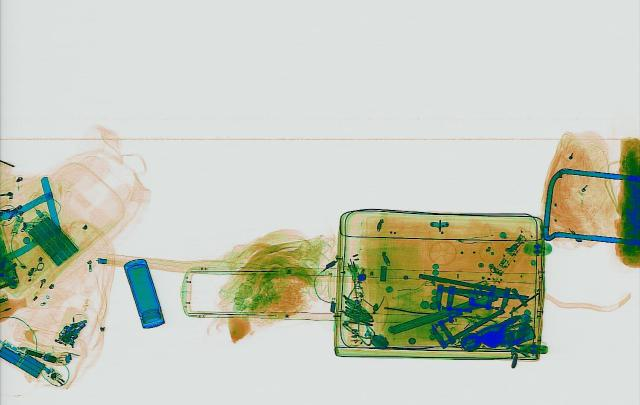Pliers: (469, 310, 529, 345)
